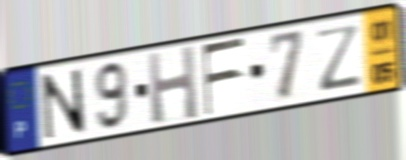7: (269, 27, 307, 105)
9: (92, 58, 130, 132)
F: (200, 34, 248, 119)
H: (145, 42, 201, 127)
N: (38, 67, 89, 143)
Z: (313, 21, 364, 94)
